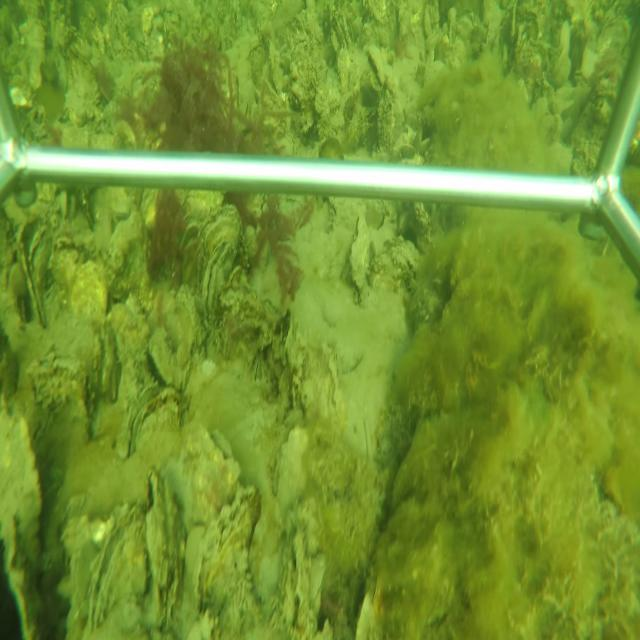Oyster-Closed: (200, 488, 258, 614), (86, 508, 145, 631), (145, 468, 178, 627), (199, 204, 242, 313), (131, 384, 182, 460), (20, 219, 50, 327), (349, 211, 371, 297)
Oyster-Indeterminate: (353, 496, 468, 633), (386, 407, 475, 509)
Oyster-Open: (179, 220, 201, 276), (365, 44, 390, 92)
